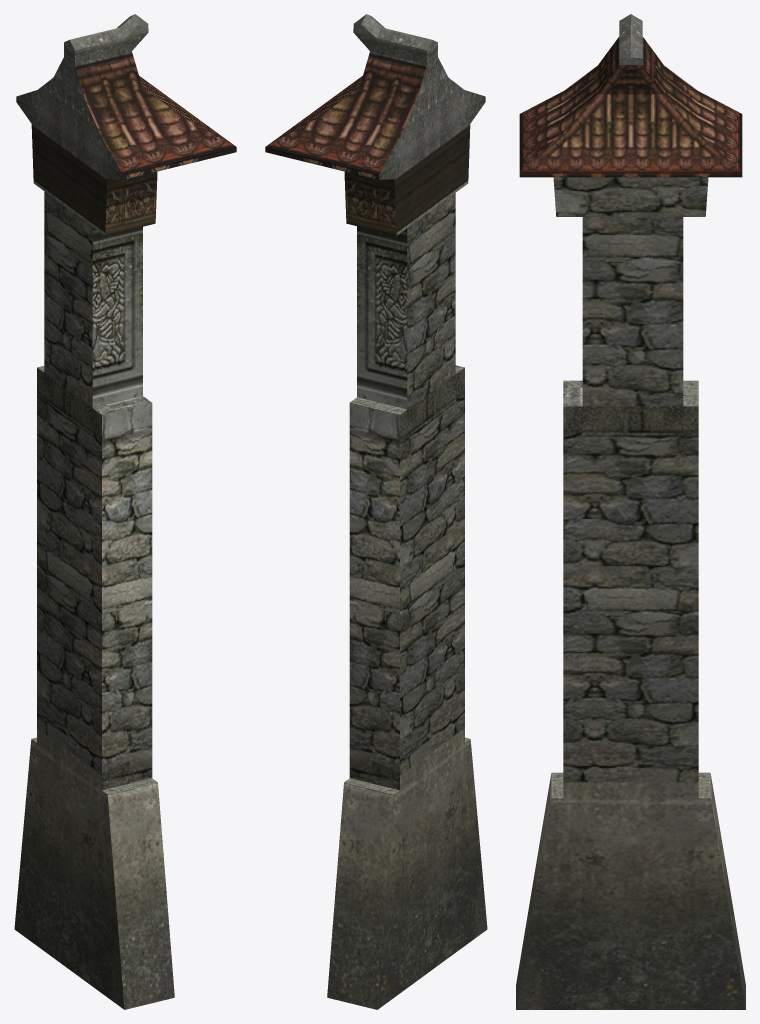
Rendered from a1-middledam-06.fbx.
3 renders of one model, left to right at view 1: azimuth 30°, elevation 25°; view 2: azimuth 150°, elevation 25°; view 3: azimuth 270°, elevation 25°, orthographic. The views are drawn at different scales.
Visible parts, largest first — view 1: b1-middledam-06; view 2: b1-middledam-06; view 3: b1-middledam-06.
Part boxes in pixels (x1,y1,x2,y2): b1-middledam-06: (14,14,236,1009); b1-middledam-06: (265,14,487,1009); b1-middledam-06: (516,14,745,1009).
Size of the model in its own units: 1.01 by 8.01 by 1.7.
